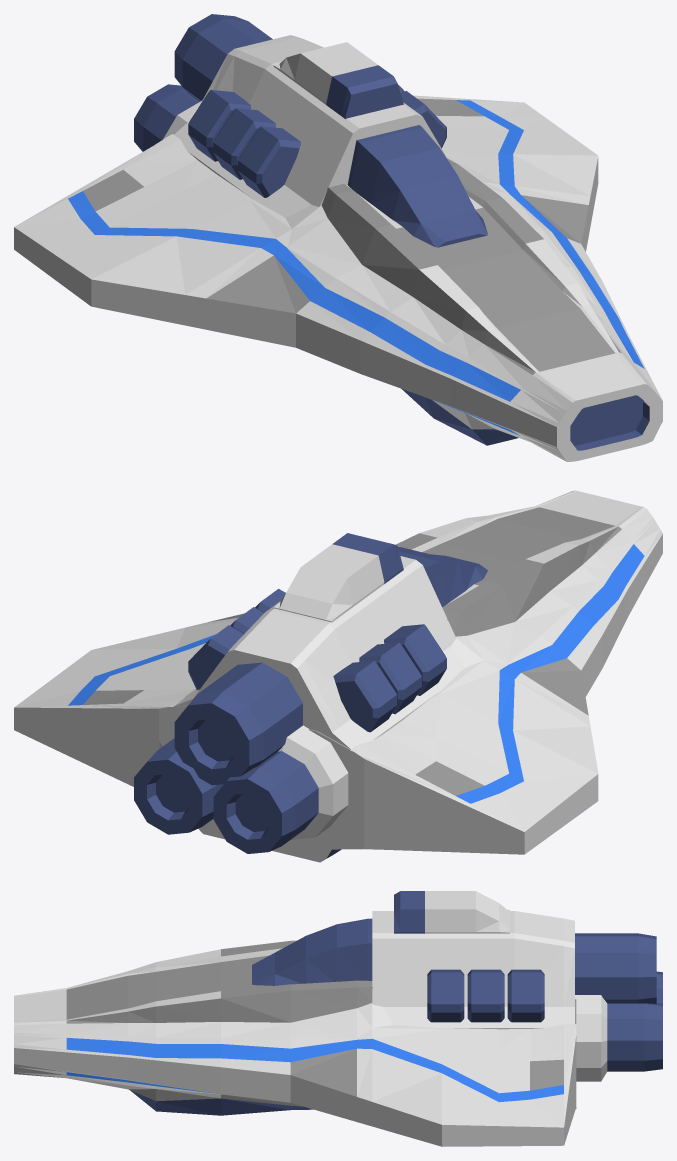
File: hull_sprinter.obj
3 renders of one model, top to bottom at view 1: azimuth 30°, elevation 25°; view 2: azimuth 150°, elevation 25°; view 3: azimuth 270°, elevation 25°, orthographic. The views are drawn at different scales.
Size of the model in its own units: 3.08 by 1.41 by 4.2.
